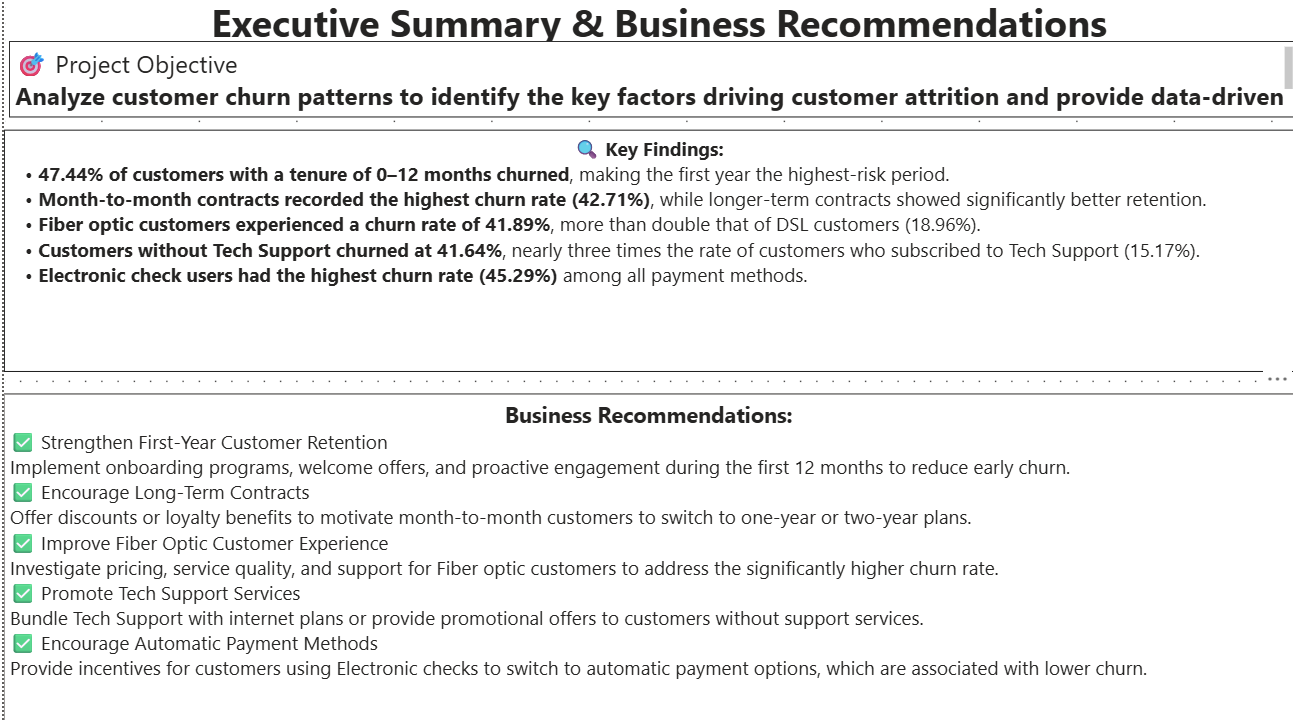

What the dashboard file says about the page in this screenshot:
{"tool":"powerbi","page":{"name":"Page 2","canvas":[1280,720],"ordinal":1},"visuals":[{"type":"textbox","box":[9.8,0,1270.2,61.5],"z":0},{"type":"textbox","box":[4.9,49.2,1270.2,75.1],"z":1},{"type":"textbox","box":[0,136.6,1270.2,238.8],"z":2},{"type":"textbox","box":[0,396.3,1270.2,323.7],"z":3}]}

Visuals, with their boxes in screenshot pixels (x1, y1, x2, y2), scaled from the page's 1280x720 canvas onto the 1293x720 screenshot:
textbox: x1=10, y1=0, x2=1292, y2=62
textbox: x1=5, y1=49, x2=1288, y2=124
textbox: x1=0, y1=137, x2=1283, y2=375
textbox: x1=0, y1=396, x2=1283, y2=719
